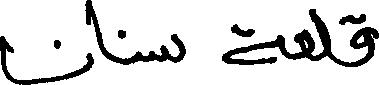X: (0, 0, 92, 84), (224, 19, 282, 69), (352, 9, 378, 71), (151, 29, 183, 67), (313, 4, 331, 65), (297, 4, 311, 65), (94, 6, 104, 60), (133, 46, 142, 68)
